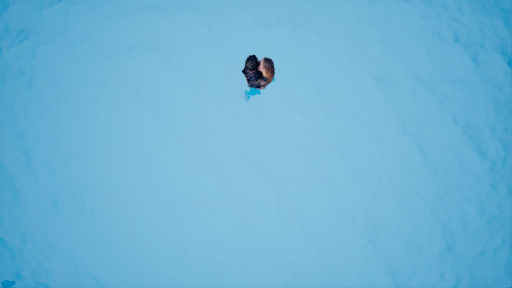person: (238, 49, 280, 107)
